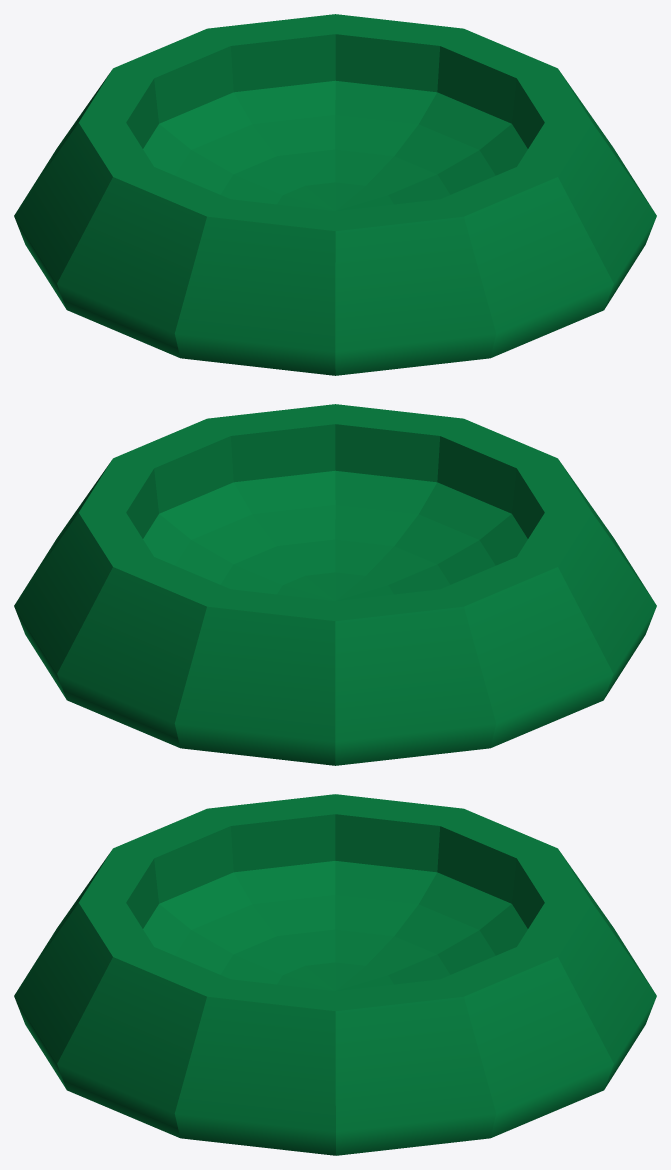
The model's file is Logic_B_Hole.fbx.
3 renders of one model, top to bottom at view 1: azimuth 30°, elevation 25°; view 2: azimuth 150°, elevation 25°; view 3: azimuth 270°, elevation 25°, orthographic.
Visible parts, largest first — view 1: Logic_B_Hole; view 2: Logic_B_Hole; view 3: Logic_B_Hole.
Part boxes in pixels (x1,y1,x2,y2): Logic_B_Hole: (14, 14, 656, 375); Logic_B_Hole: (14, 404, 656, 765); Logic_B_Hole: (14, 794, 656, 1155).
Bounding box in the file's own units: 8.71 × 1.83 × 8.72.
